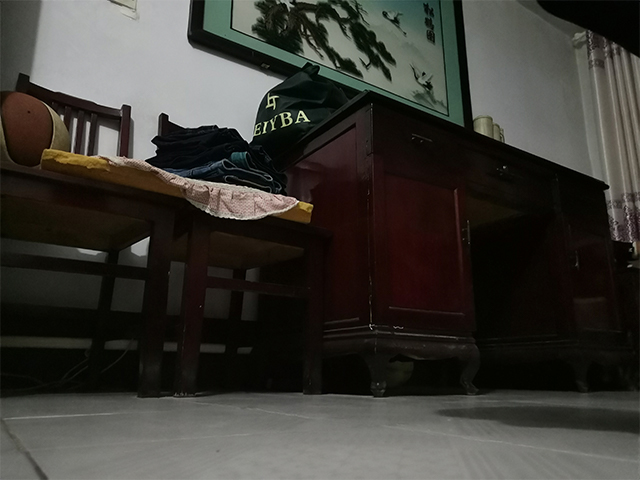cabinet: (261, 88, 638, 399)
stool: (1, 69, 336, 399)
wire: (1, 339, 135, 396)
